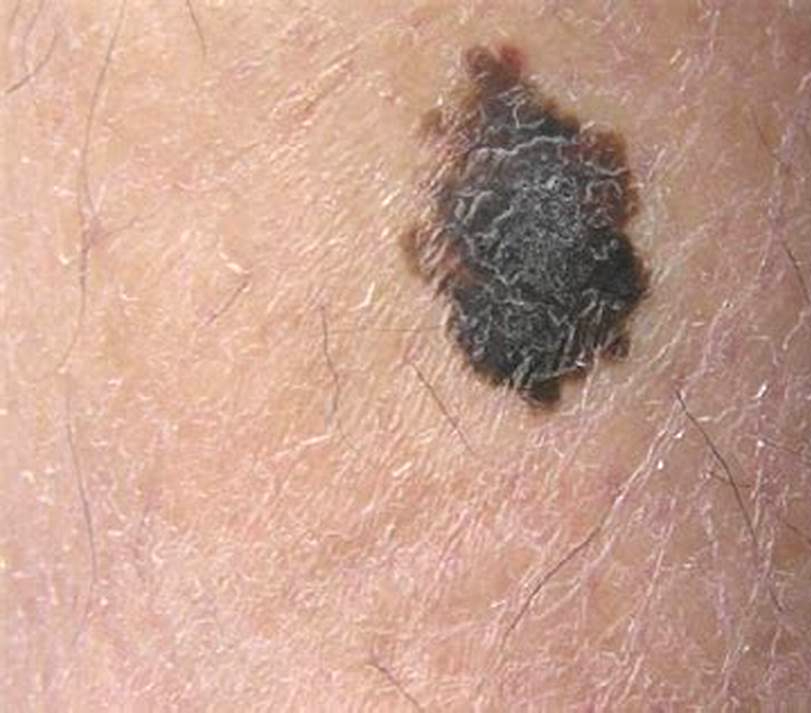Melanoma: (409, 49, 650, 417)
